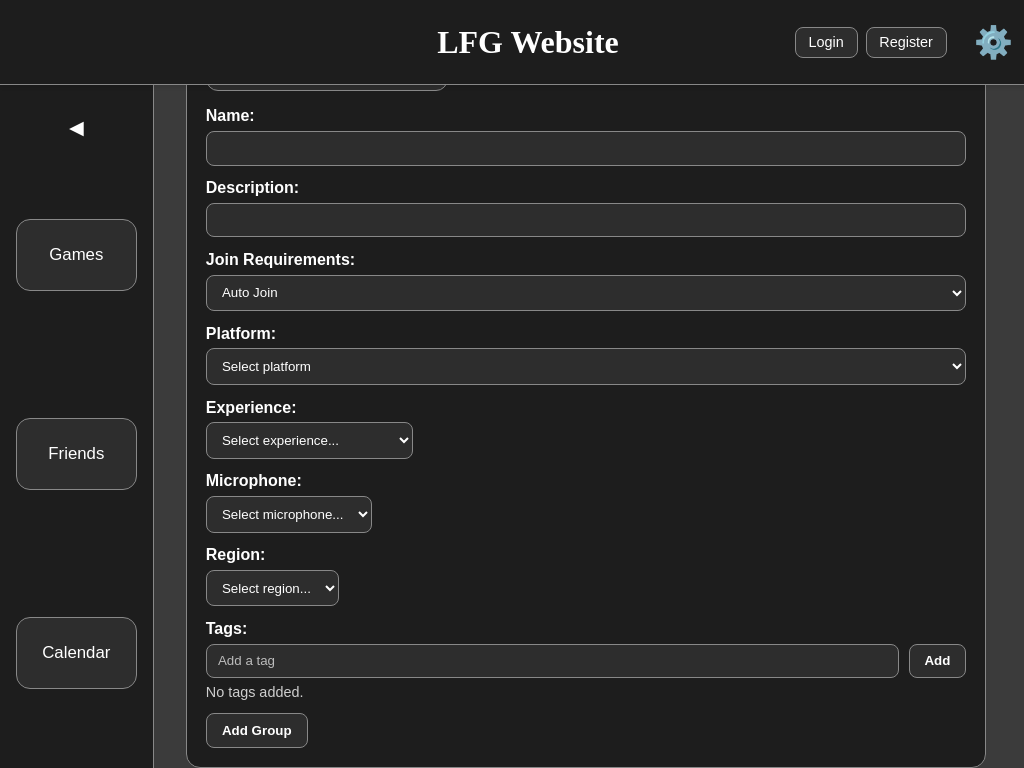
Test: create_group_page › adds, removes, and deduplicates tags
(page scrolled)
In the field labelled "Tags:": (553, 662) [206, 644, 900, 679], type "tag1"
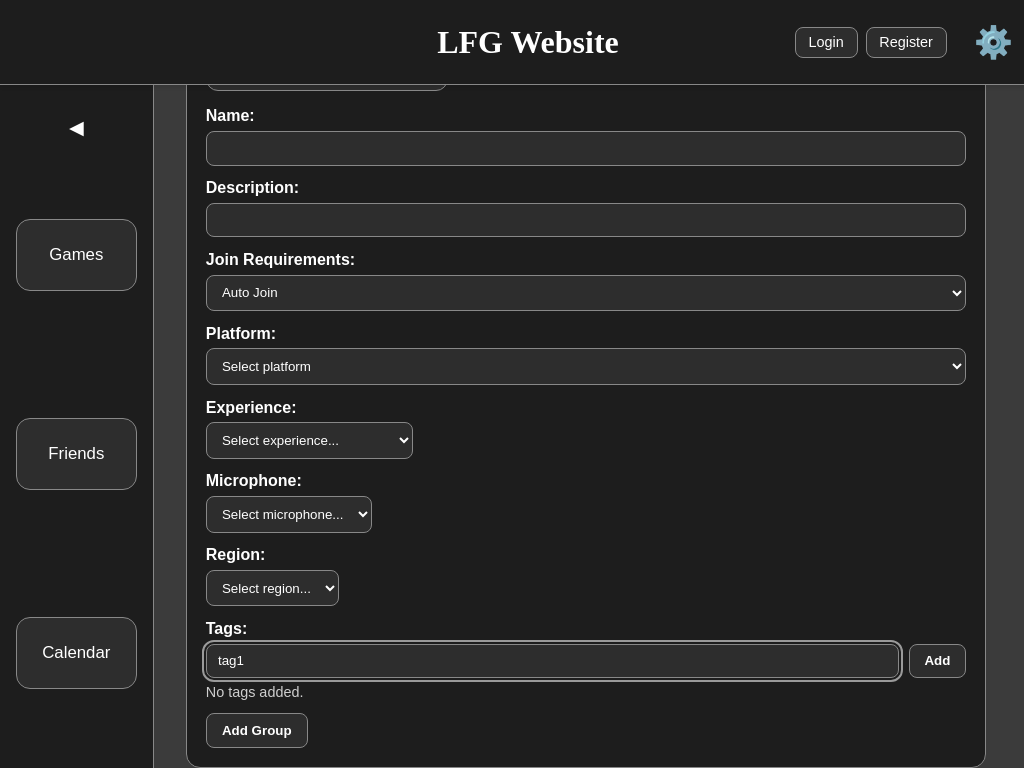
Click the button with class "create-group-tag-add": (938, 662) [909, 644, 966, 679]
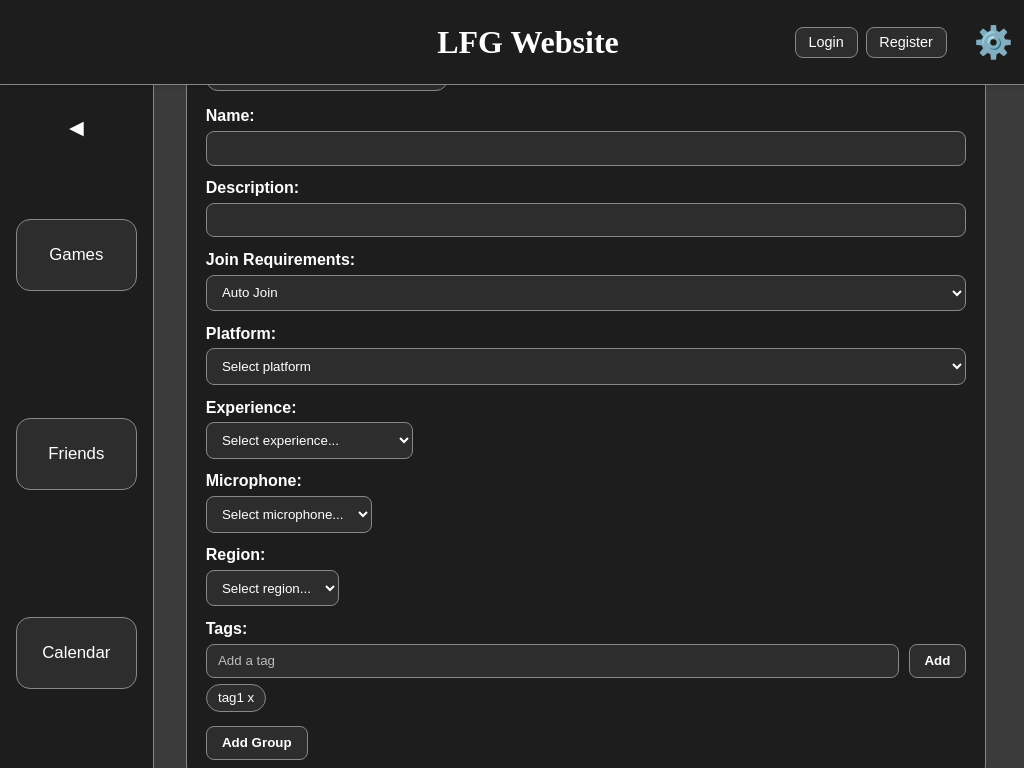
Check: the number of buttons with class "create-group-tag-chip" is 1, box [206, 684, 267, 712]
Check: the button with class "create-group-tag-chip" shows "tag1", box [206, 684, 267, 712]
In the field labelled "Tags:": (553, 662) [206, 644, 900, 679], type "tag1"
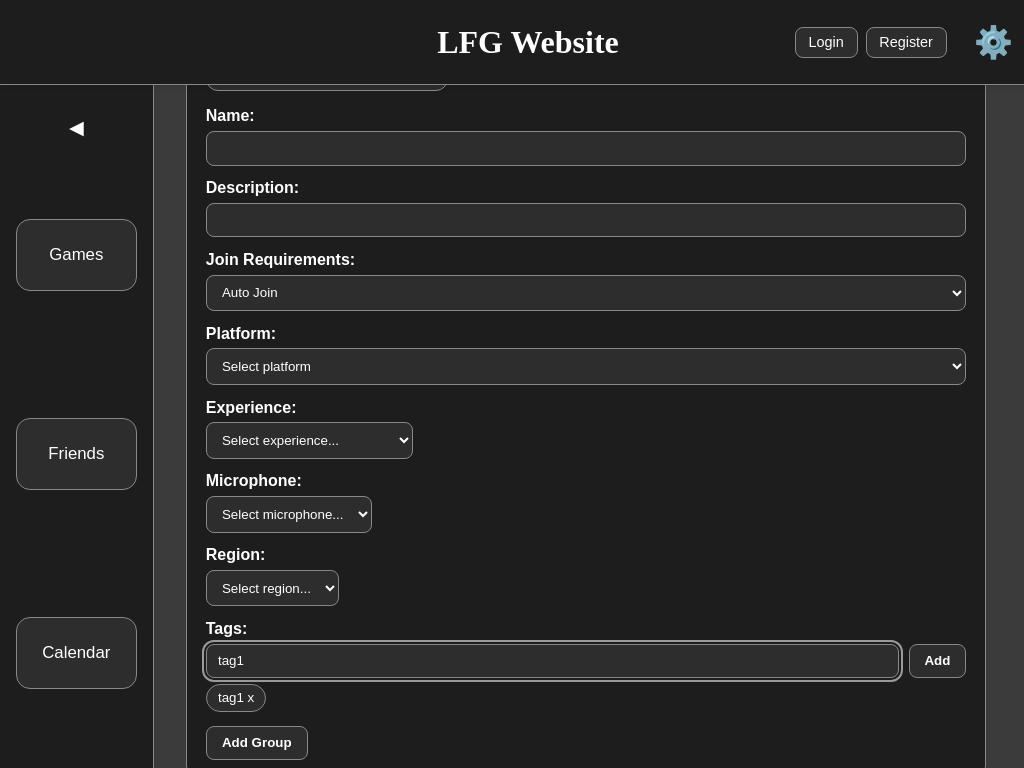
Click the button with class "create-group-tag-add": (938, 662) [909, 644, 966, 679]
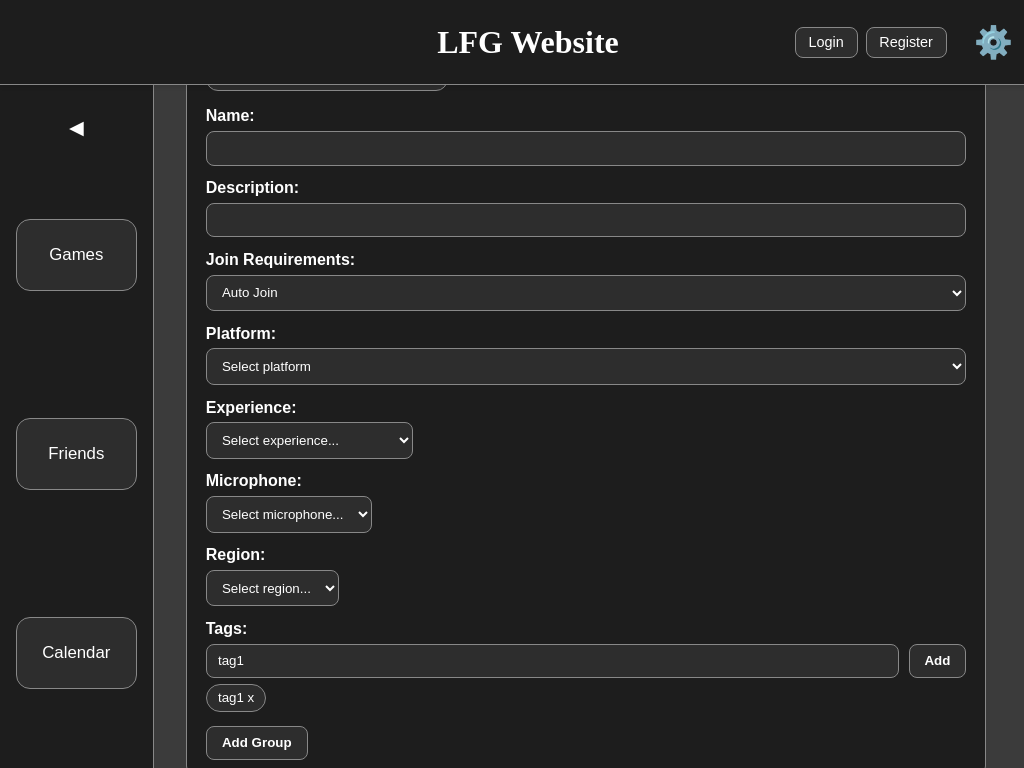
Check: the number of buttons with class "create-group-tag-chip" is 1
Click the button with class "create-group-tag-chip": (237, 698) [206, 684, 267, 712]
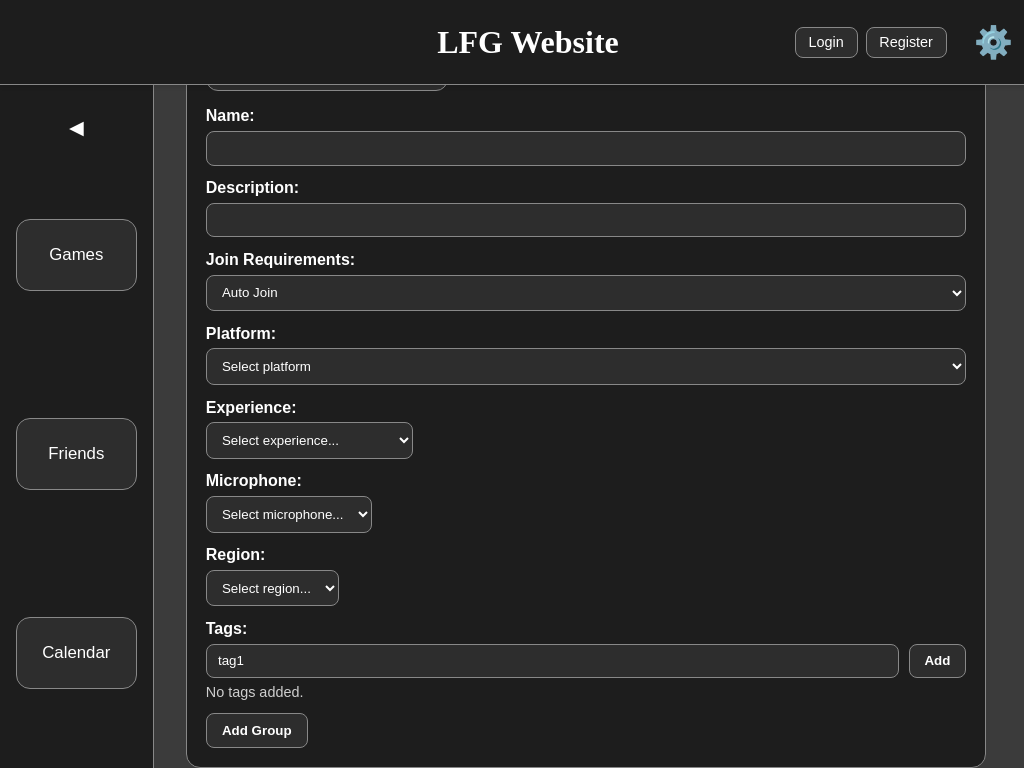
Check: the text "No tags added." is shown, box [206, 684, 303, 700]
